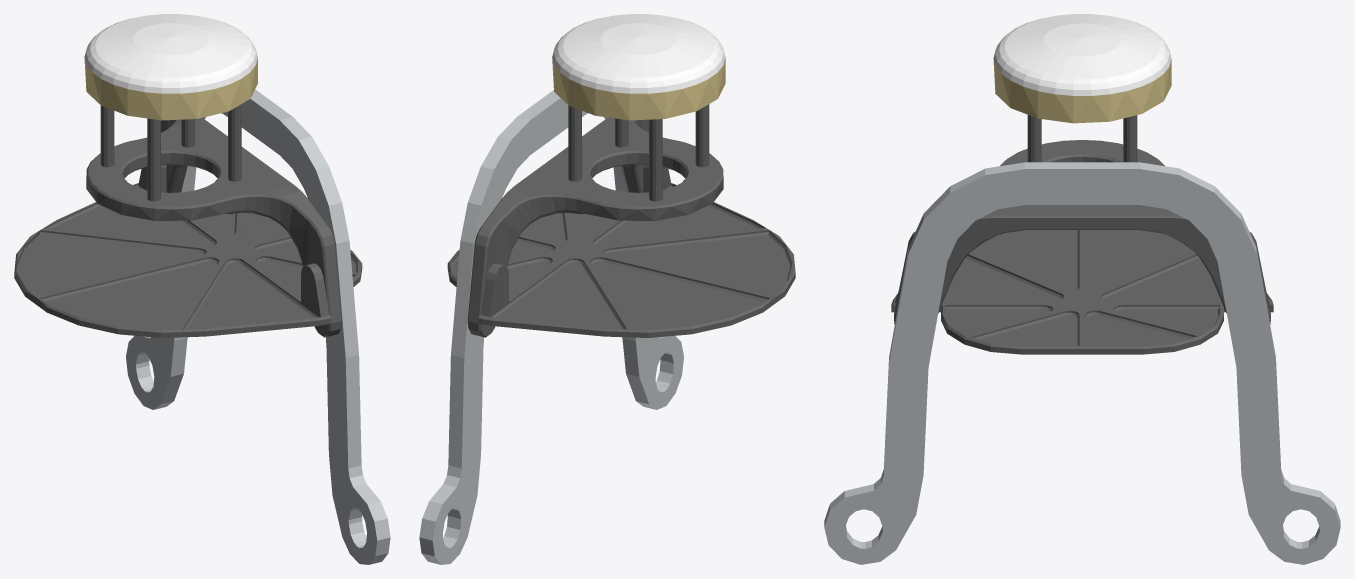
The model's file is gps.dae.
3 renders of one model, left to right at view 1: azimuth 30°, elevation 25°; view 2: azimuth 150°, elevation 25°; view 3: azimuth 270°, elevation 25°, orthographic. The views are drawn at different scales.
Visible parts, largest first — view 1: 090125-Back_antenna_simplified-in_Anymal_base_CSYS; view 2: 090125-Back_antenna_simplified-in_Anymal_base_CSYS; view 3: 090125-Back_antenna_simplified-in_Anymal_base_CSYS.
Boxes of the visible parts, x1,y1,x2,y2 form: 090125-Back_antenna_simplified-in_Anymal_base_CSYS: (14, 14, 390, 564); 090125-Back_antenna_simplified-in_Anymal_base_CSYS: (419, 14, 795, 564); 090125-Back_antenna_simplified-in_Anymal_base_CSYS: (824, 14, 1340, 564).
Size of the model in its own units: 0.1712 by 0.26 by 0.2669.
